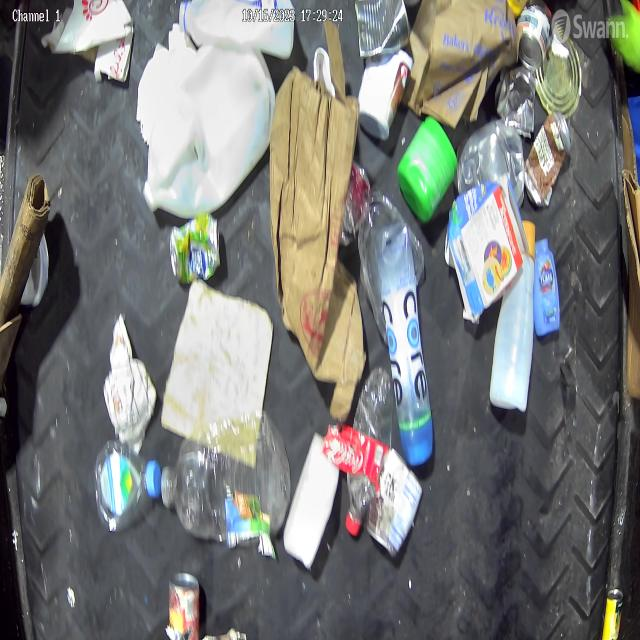can: (374, 452, 424, 562), (535, 21, 583, 117), (165, 220, 228, 288), (352, 0, 414, 61), (163, 569, 210, 640), (494, 65, 536, 138), (517, 0, 551, 69)
milk_jug: (142, 36, 276, 215), (176, 0, 295, 66)
non_white_jug: (376, 219, 441, 466)
plastic_bottle: (159, 421, 291, 547), (345, 369, 397, 545)
